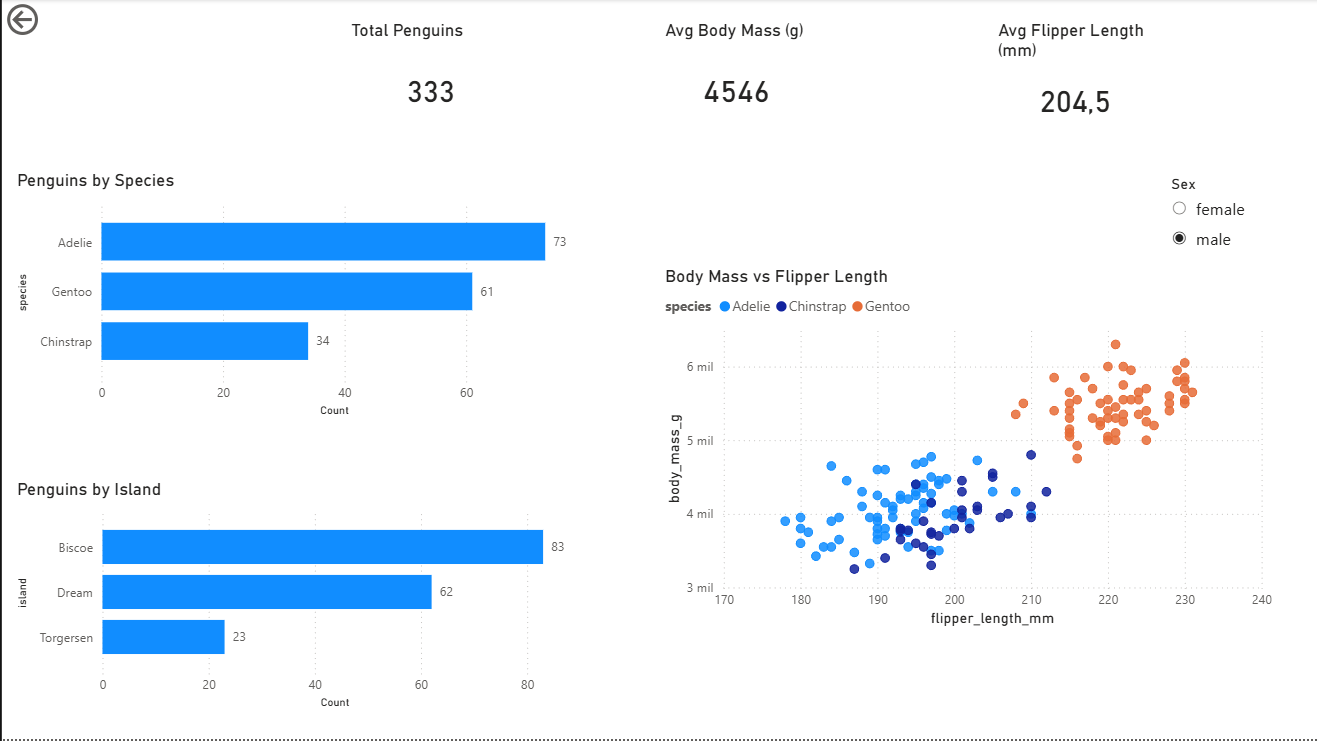

The dashboard page shown, as its layout file describes it:
{"tool":"powerbi","page":{"name":"Página 1","canvas":[1280,720],"ordinal":0},"visuals":[{"type":"card","title":"Total Penguins","fields":{"Values":["CountNonNull(penguins.species)"]},"box":[334.6,20.4,165.3,116.7],"z":0},{"type":"clusteredBarChart","title":"Penguins by Species","fields":{"Category":["penguins.species"],"Y":["CountNonNull(penguins.species)"]},"box":[9.7,166.3,552.5,244.1],"z":1},{"type":"clusteredBarChart","title":"Penguins by Island","fields":{"Category":["penguins.island"],"Y":["CountNonNull(penguins.species)"]},"box":[9.7,466.9,552.5,227.6],"z":2},{"type":"scatterChart","title":"Body Mass vs Flipper Length","fields":{"X":["penguins.flipper_length_mm"],"Y":["penguins.body_mass_g"],"Series":["penguins.species"]},"box":[640,259.7,600.1,356],"z":3},{"type":"actionButton","box":[0,0,100,40],"z":4},{"type":"slicer","fields":{"Values":["penguins.sex"]},"box":[1124.4,166.3,115.7,93.4],"z":5},{"type":"card","title":"Avg Body Mass (g)","fields":{"Values":["Avg(penguins.body_mass_g)"]},"box":[640,20.4,148.8,116.7],"z":6},{"type":"card","title":"Avg Flipper Length (mm)","fields":{"Values":["Avg(penguins.flipper_length_mm)"]},"box":[963.9,20.4,160.5,116.7],"z":7}]}

Visuals, with their boxes in screenshot pixels (x1, y1, x2, y2), scaled from the page's 1280x720 canvas onto the 1317x741 screenshot:
"Total Penguins" card: box(344, 21, 514, 141)
"Penguins by Species" clusteredBarChart: box(10, 171, 578, 422)
"Penguins by Island" clusteredBarChart: box(10, 481, 578, 715)
"Body Mass vs Flipper Length" scatterChart: box(658, 267, 1276, 634)
actionButton: box(0, 0, 103, 41)
slicer - penguins.sex: box(1157, 171, 1276, 267)
"Avg Body Mass (g)" card: box(658, 21, 812, 141)
"Avg Flipper Length (mm)" card: box(992, 21, 1157, 141)
